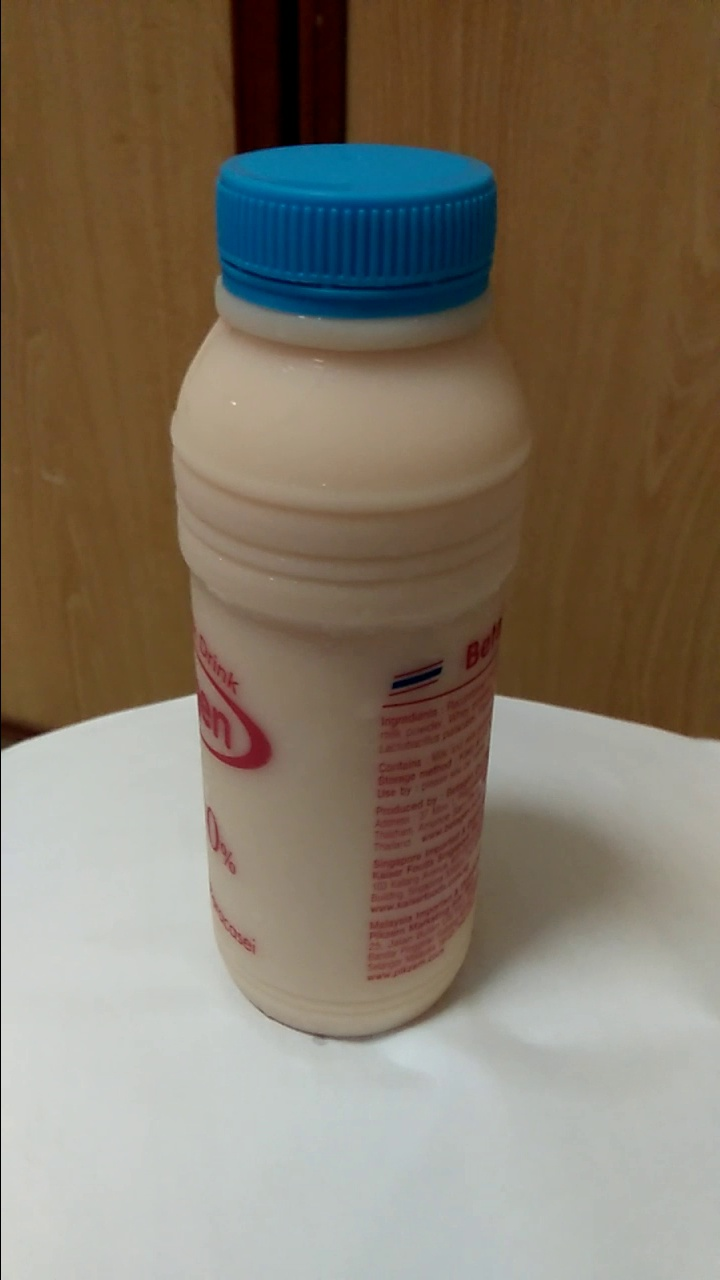mlik2: (190, 145, 509, 1049)
